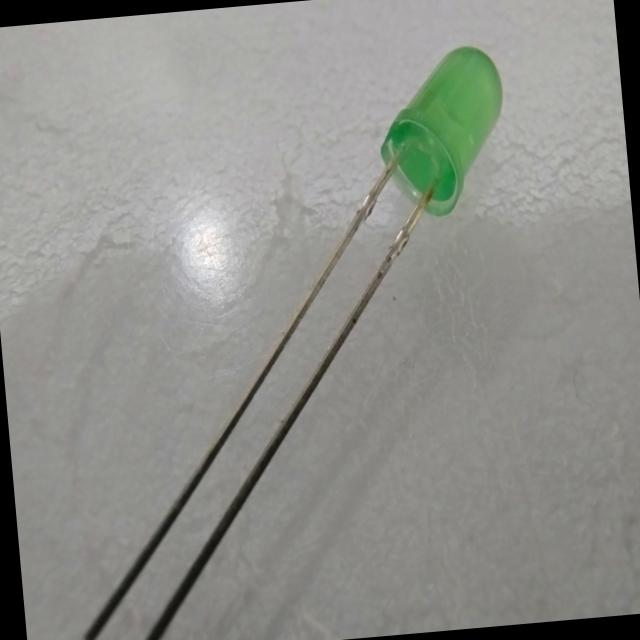green_led: (358, 30, 520, 237)
